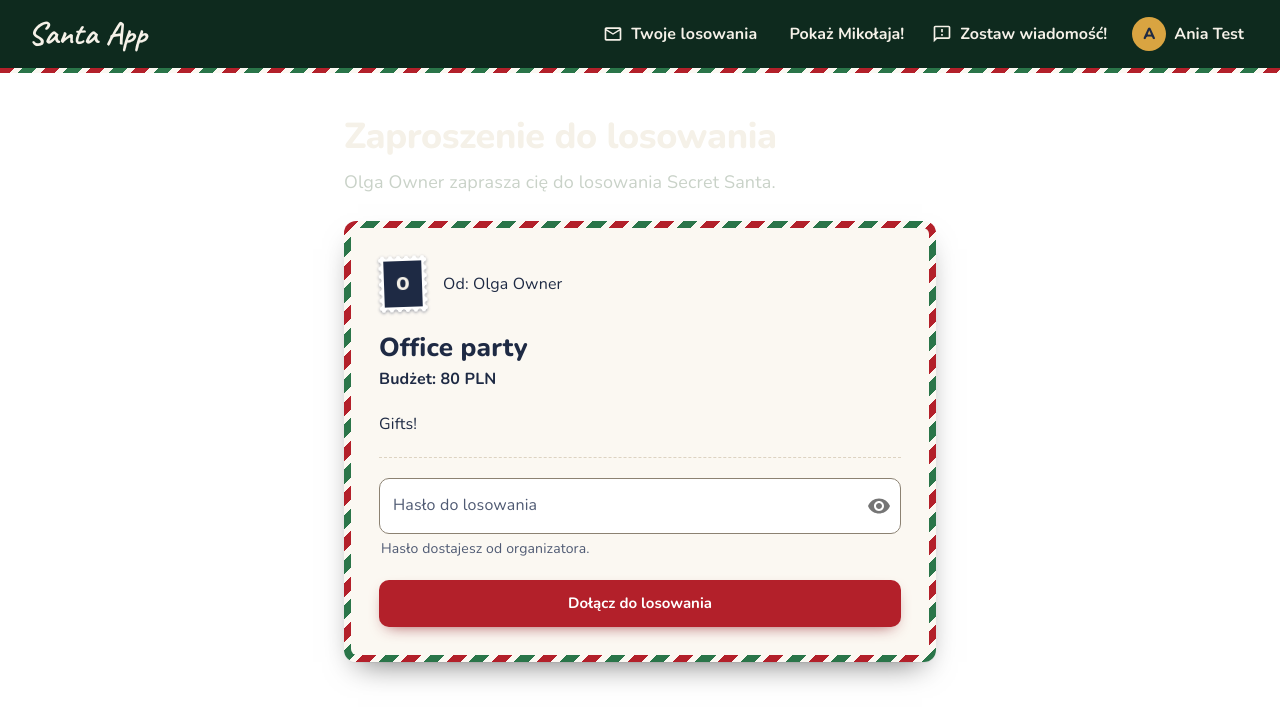
Test: JoinToDrawPage › shows an error for a wrong password
Type "wrong-1" into the password field labelled "Hasło do losowania".
click(615, 506); type("wrong-1")  # box left=379, top=478, right=851, bottom=534
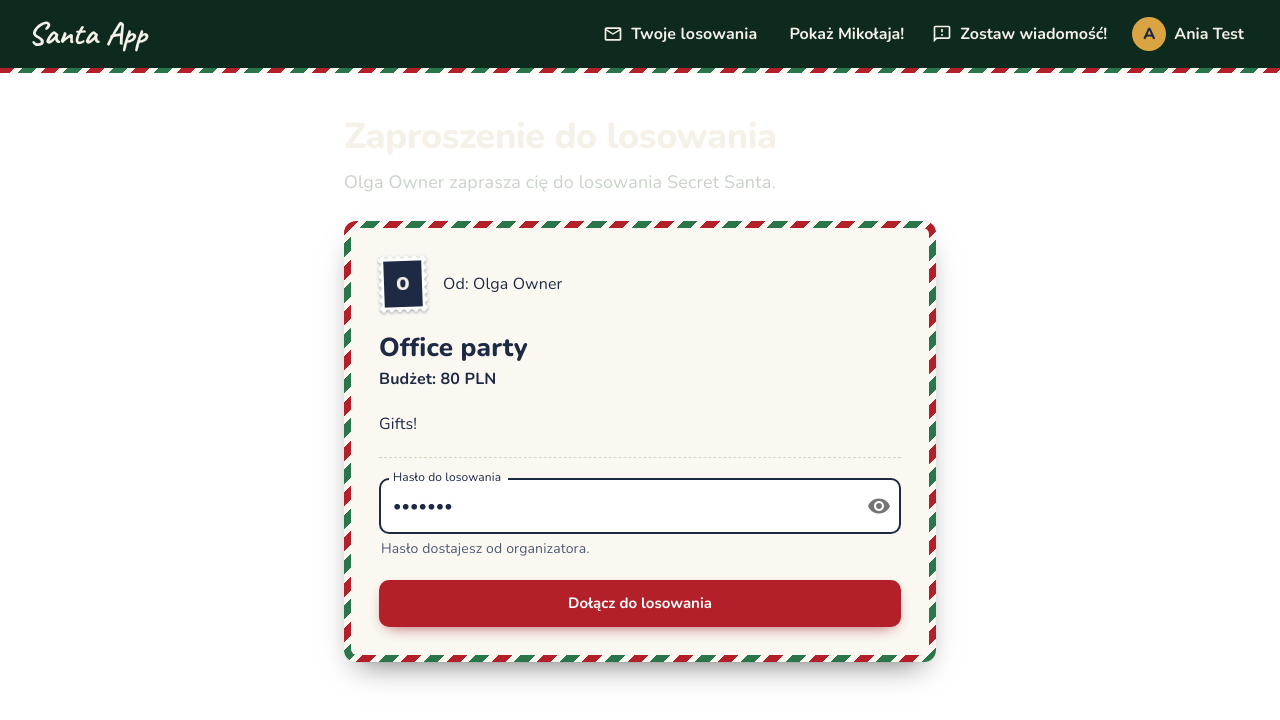
Click the button "Dołącz do losowania".
click(640, 603)  # box left=379, top=580, right=901, bottom=627
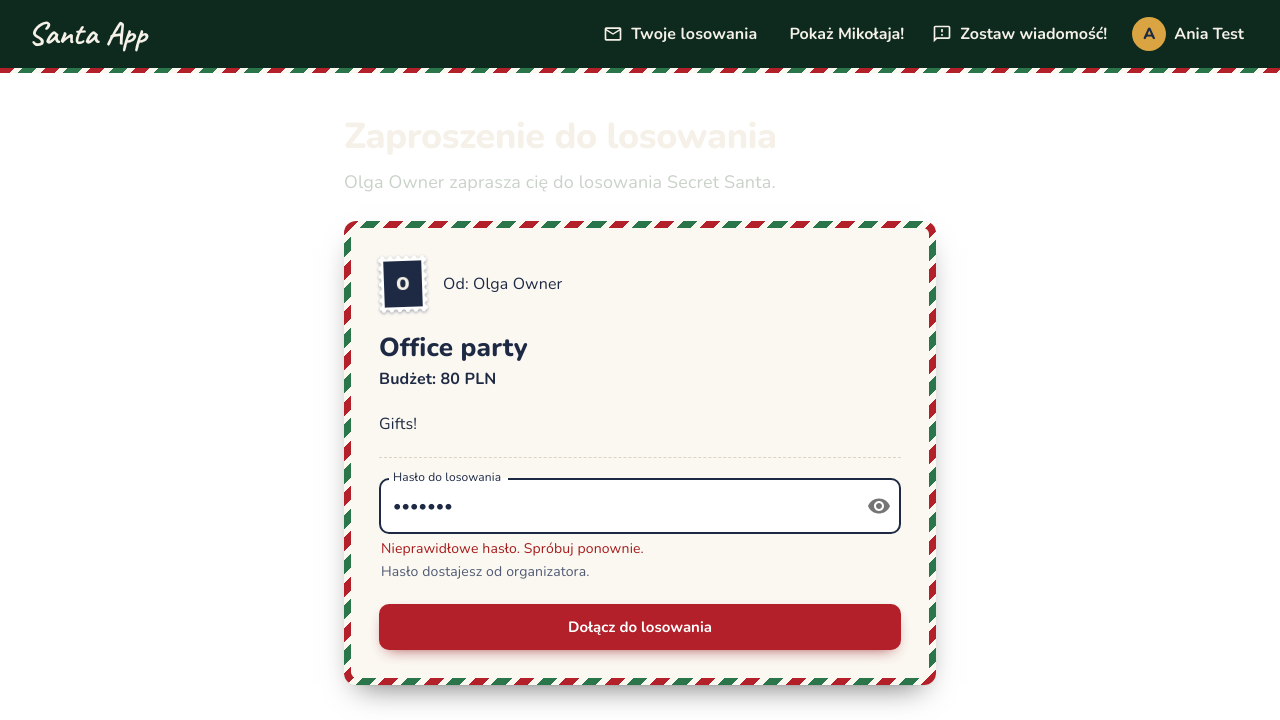
Expected: the text "Nieprawidłowe hasło" is shown, left=381, top=539, right=644, bottom=558
